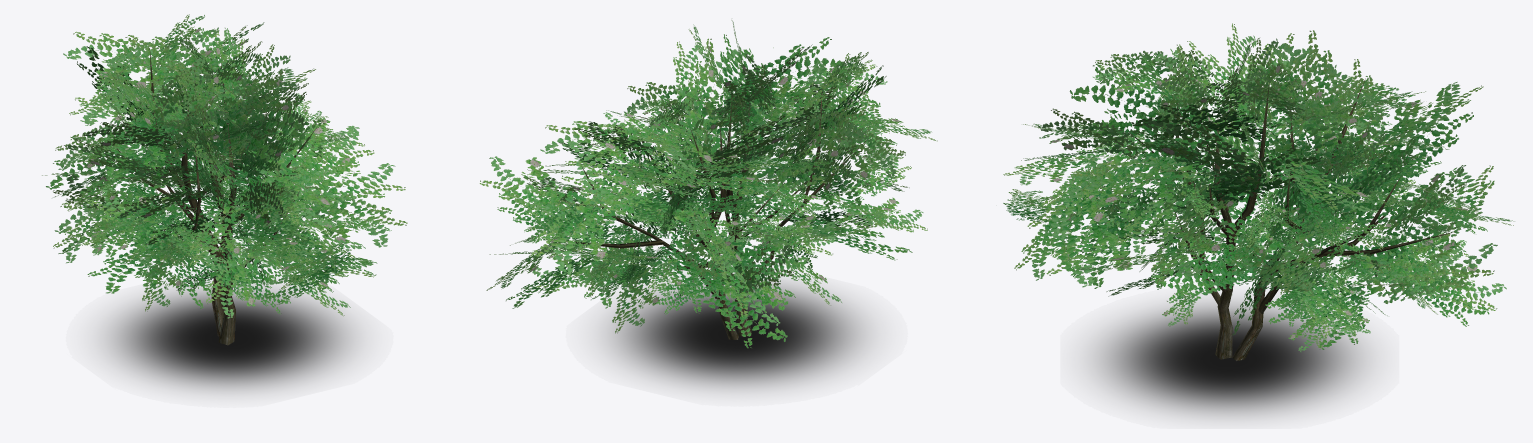
File: btree3.gltf
The picture shows the model from 3 angles, left to right: view 1: azimuth 30°, elevation 25°; view 2: azimuth 150°, elevation 25°; view 3: azimuth 270°, elevation 25°; orthographic projection. The views are drawn at different scales.
Visible parts, largest first — view 1: w1082, Plane058; view 2: w1082, Plane058; view 3: w1082, Plane058.
Part boxes in pixels (bbox=[...]): w1082: bbox=[42, 14, 407, 345]; Plane058: bbox=[102, 286, 357, 392]; w1082: bbox=[479, 20, 937, 348]; Plane058: bbox=[603, 279, 869, 390]; w1082: bbox=[1003, 23, 1514, 360]; Plane058: bbox=[1090, 300, 1368, 417].
Size of the model in its own units: 10160 by 8688 by 13248.
Materials: 2 (2 with a texture image).
